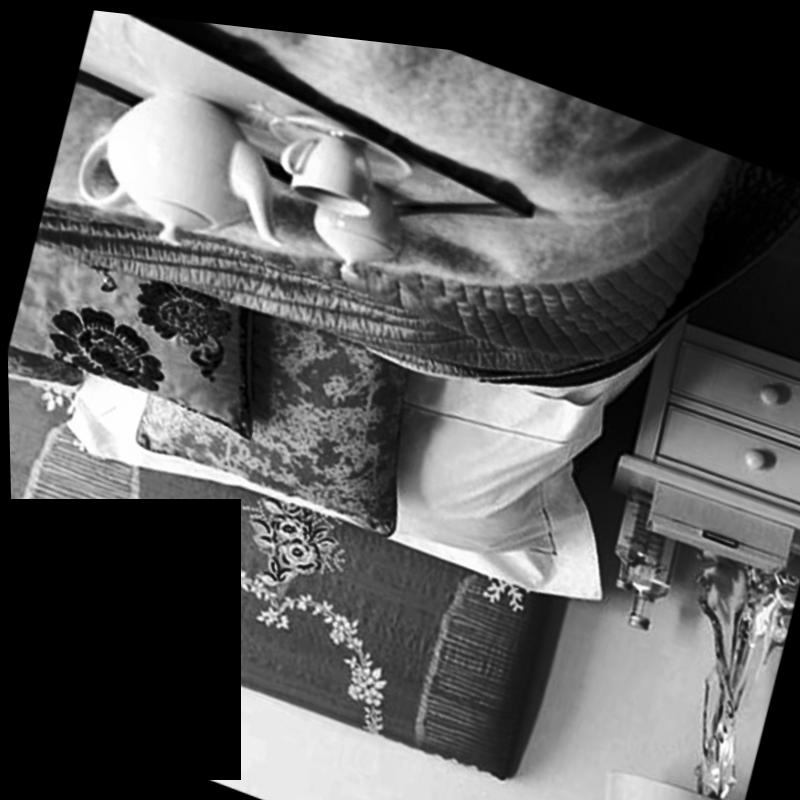pillow: (49, 188, 670, 645), (138, 267, 441, 537), (7, 232, 278, 434)
